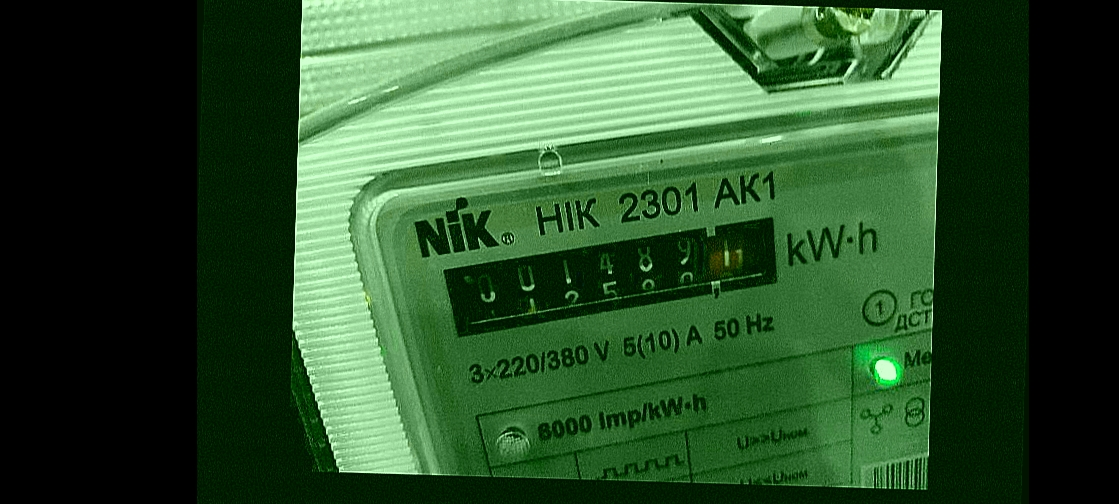0: (510, 258, 537, 295), (472, 271, 497, 306)
1: (714, 232, 734, 271), (555, 255, 575, 287)
4: (593, 246, 616, 278)
8: (633, 240, 655, 276)
9: (672, 235, 693, 267)
screen: (428, 197, 807, 360)
